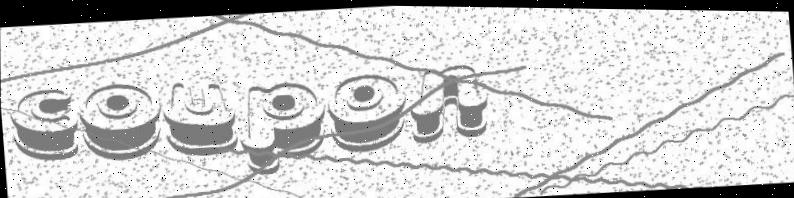c: (8, 81, 83, 163)
n: (408, 62, 491, 141)
o: (74, 76, 162, 164), (324, 70, 409, 154)
p: (240, 78, 330, 176)
u: (156, 73, 242, 160)
